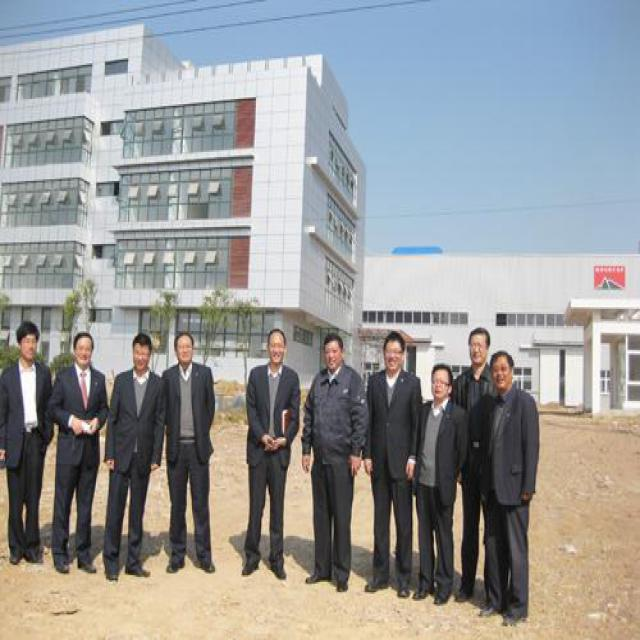head: (489, 347, 517, 397), (15, 317, 42, 366), (377, 329, 407, 373), (427, 361, 457, 404), (465, 322, 493, 368), (129, 329, 155, 375), (69, 327, 93, 373), (320, 329, 345, 373), (265, 325, 289, 370), (171, 325, 193, 368)
person: (303, 330, 373, 596), (237, 326, 306, 584), (159, 324, 227, 583), (363, 324, 422, 614), (485, 350, 544, 635), (51, 327, 114, 585), (450, 321, 501, 616), (107, 323, 162, 586), (2, 314, 55, 569), (419, 356, 469, 614)
